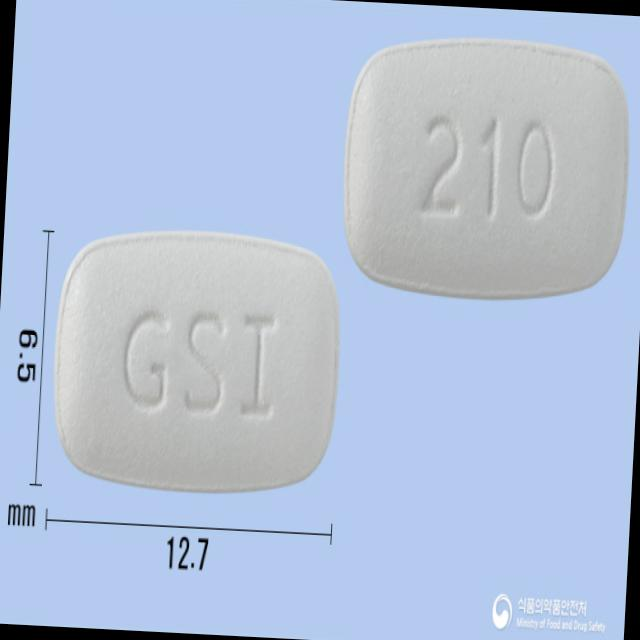Descovy -25mg: (46, 221, 347, 501), (337, 30, 636, 310)
